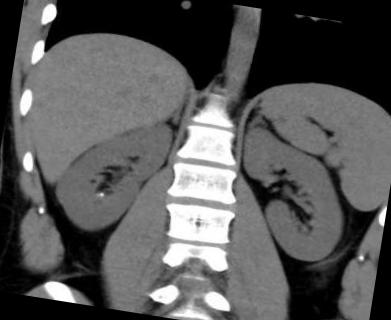Tas_Var: (98, 191, 104, 197), (95, 192, 99, 196)
